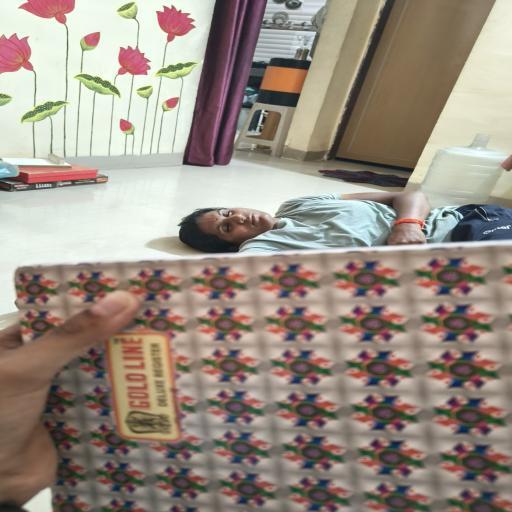survivor: (178, 191, 512, 255)
